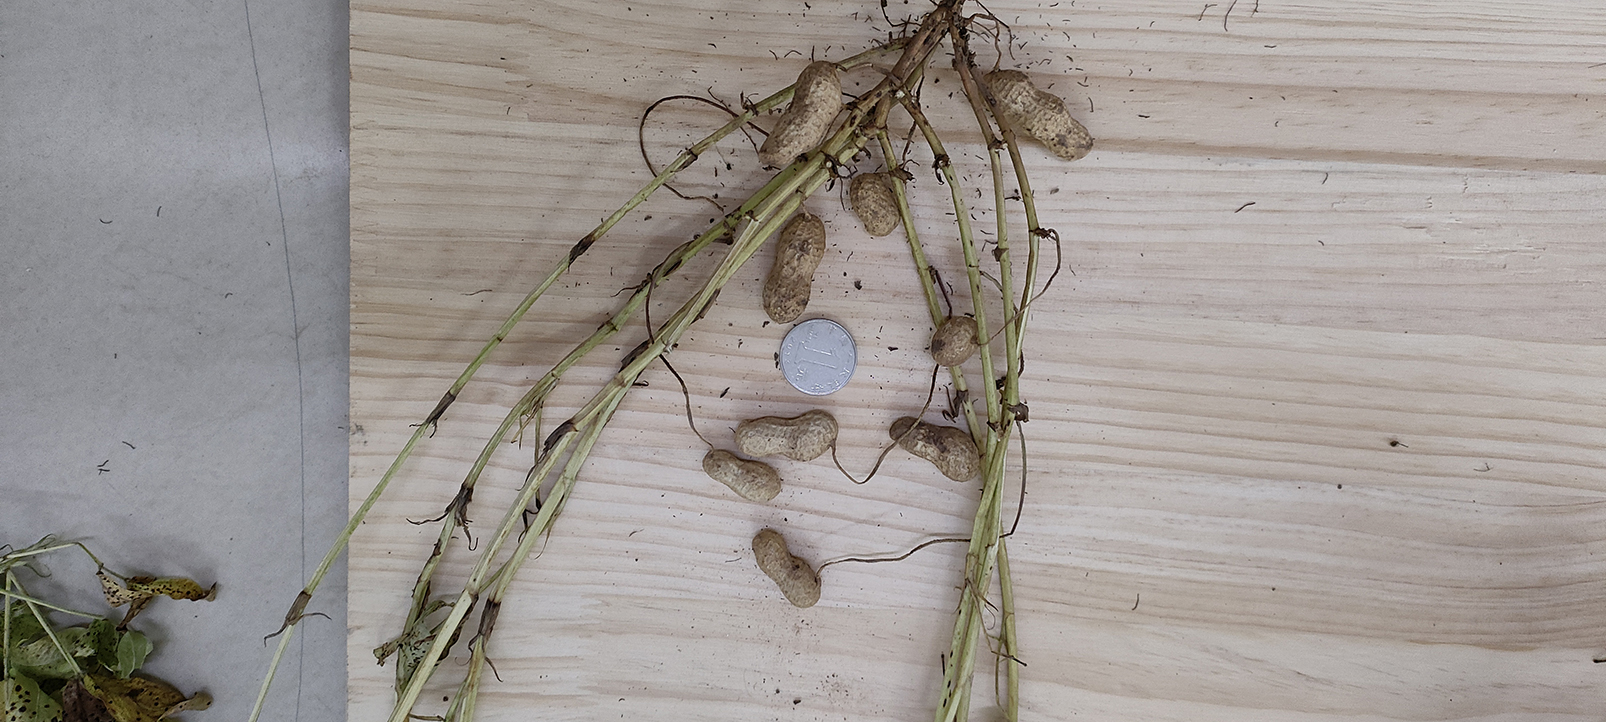h: (988, 69, 1093, 162), (760, 59, 842, 173), (762, 213, 827, 323), (752, 529, 822, 609), (735, 409, 839, 462), (702, 447, 781, 502), (850, 173, 902, 236), (930, 317, 979, 365)
l: (889, 415, 981, 481)
